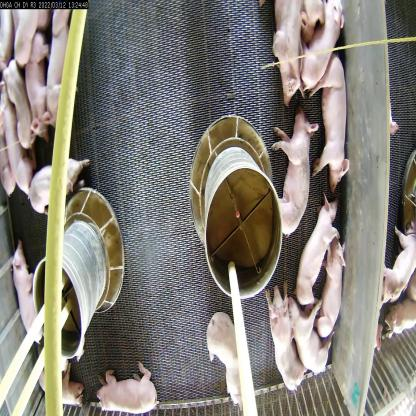Pig: (255, 257, 306, 405), (308, 48, 353, 197), (0, 223, 53, 343), (290, 192, 343, 310), (278, 101, 318, 245), (19, 142, 96, 210), (294, 2, 350, 88), (269, 0, 307, 107), (96, 360, 166, 416), (312, 237, 346, 342), (26, 26, 53, 152), (384, 214, 416, 303), (48, 9, 66, 127), (51, 362, 90, 407)
